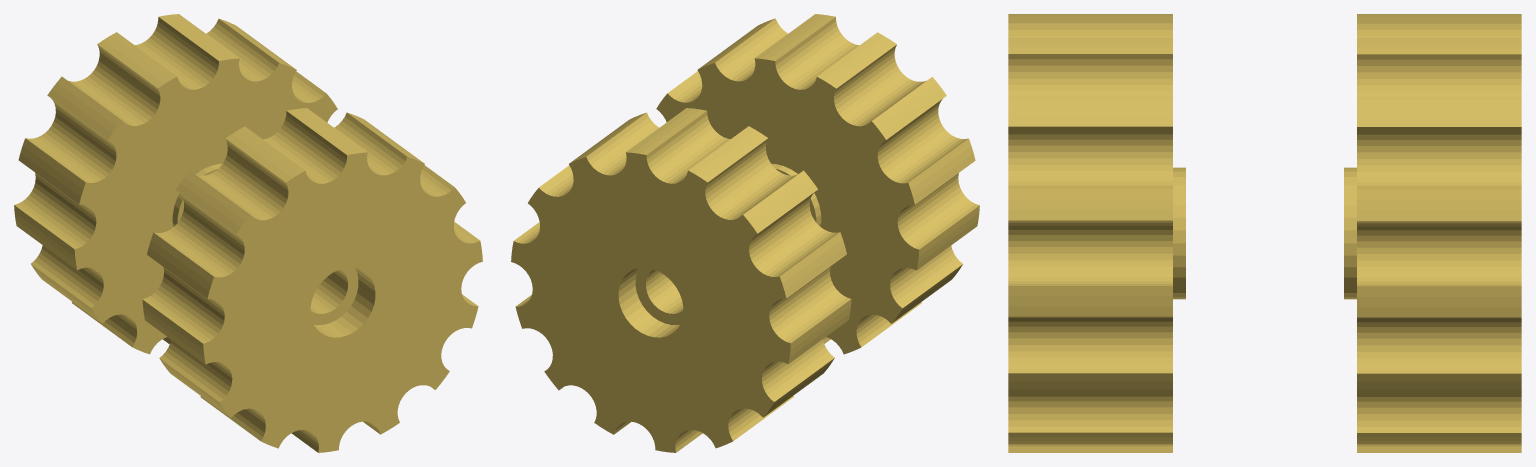
Rendered from locas_rr.dae.
The picture shows the model from 3 angles, left to right: view 1: azimuth 30°, elevation 25°; view 2: azimuth 150°, elevation 25°; view 3: azimuth 270°, elevation 25°; orthographic projection. The views are drawn at different scales.
Parts seen in each view (by area): view 1: nodo; view 2: nodo; view 3: nodo.
Part boxes in pixels (left/top/right/bottom): nodo: left=14, top=14, right=482, bottom=452; nodo: left=511, top=14, right=979, bottom=452; nodo: left=1008, top=14, right=1521, bottom=452.
Bounding box in the file's own units: 0.0666 × 0.0779 × 0.0666.
